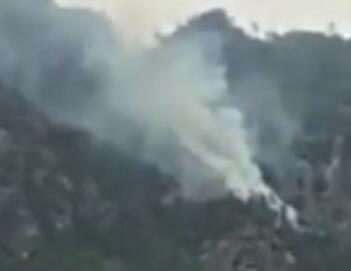yanwu: (0, 0, 306, 227)
